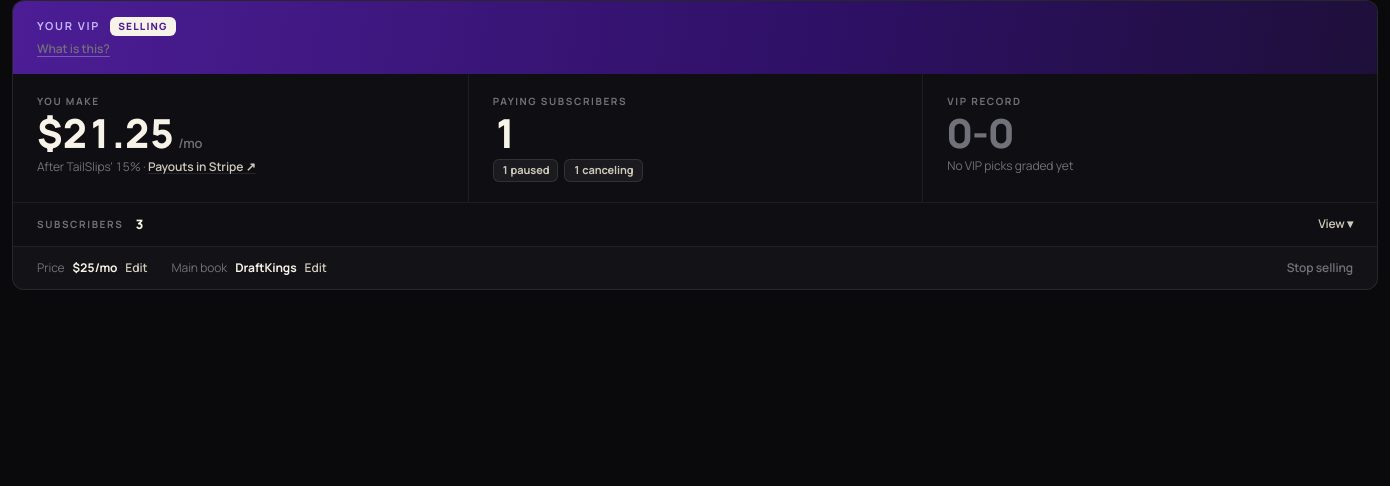
Scenario: SellerStrip › counts paused and canceling subscribers apart from active ones
Expected: the text "1 paused" is shown, [493, 159, 558, 182]
Expected: the text "1 canceling" is shown, [564, 159, 642, 182]
Click the button "Subscribers 3 View ▾" at (80, 224), box [13, 202, 1377, 246]
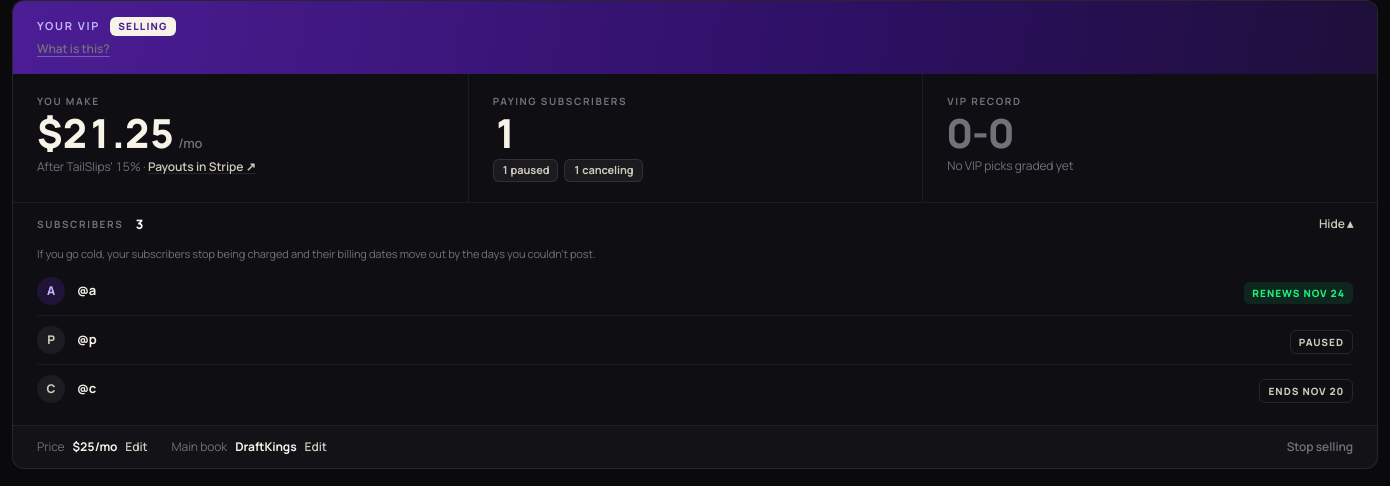
Expected: the text "Paused" is shown, [1290, 330, 1353, 354]
Expected: the text "Renews Nov 24" is shown, [1244, 282, 1353, 304]
Expected: the text "Ends Nov 20" is shown, [1260, 378, 1353, 402]
